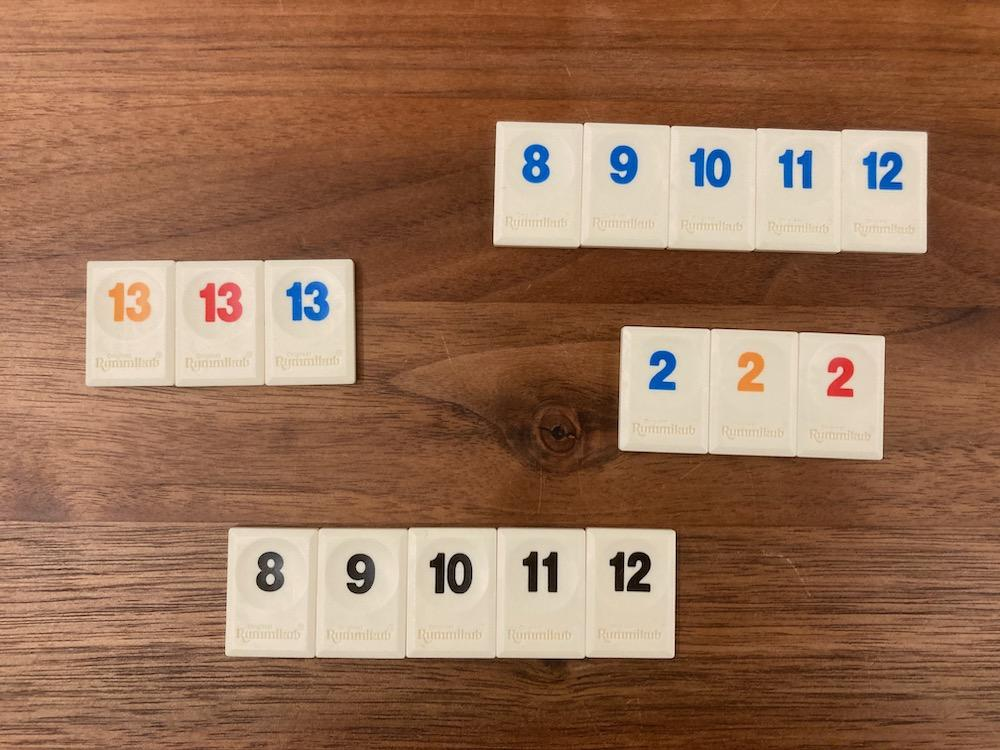black_10: (406, 527, 496, 658)
black_11: (496, 527, 586, 658)
black_12: (586, 529, 676, 658)
black_8: (227, 527, 317, 656)
black_9: (316, 529, 406, 658)
blue_10: (668, 127, 756, 250)
blue_11: (756, 129, 842, 252)
blue_12: (842, 131, 928, 252)
blue_13: (265, 262, 354, 384)
blue_2: (619, 326, 711, 453)
blue_8: (494, 123, 584, 246)
blue_9: (582, 123, 669, 246)
orange_13: (86, 263, 176, 385)
orange_2: (709, 331, 797, 455)
red_13: (176, 262, 264, 385)
red_2: (797, 332, 885, 459)
